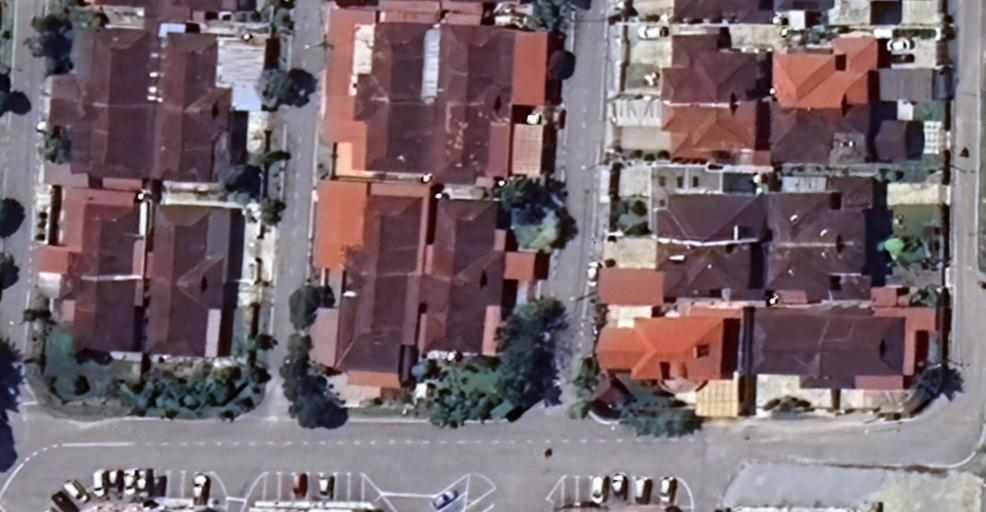building: (745, 305, 911, 393), (591, 315, 729, 400), (40, 24, 157, 110), (330, 279, 424, 378), (42, 100, 156, 181), (657, 31, 766, 110), (769, 35, 884, 106), (341, 189, 428, 282), (53, 271, 142, 356), (425, 194, 511, 280), (419, 275, 507, 359), (650, 186, 763, 250), (353, 22, 442, 102), (350, 99, 441, 177), (766, 105, 878, 168), (143, 280, 227, 361), (442, 99, 515, 191), (766, 189, 871, 252), (148, 204, 228, 285), (762, 251, 873, 308), (441, 21, 518, 103), (657, 109, 764, 168), (651, 244, 758, 303), (159, 33, 233, 114), (63, 198, 143, 272), (153, 113, 233, 182)
